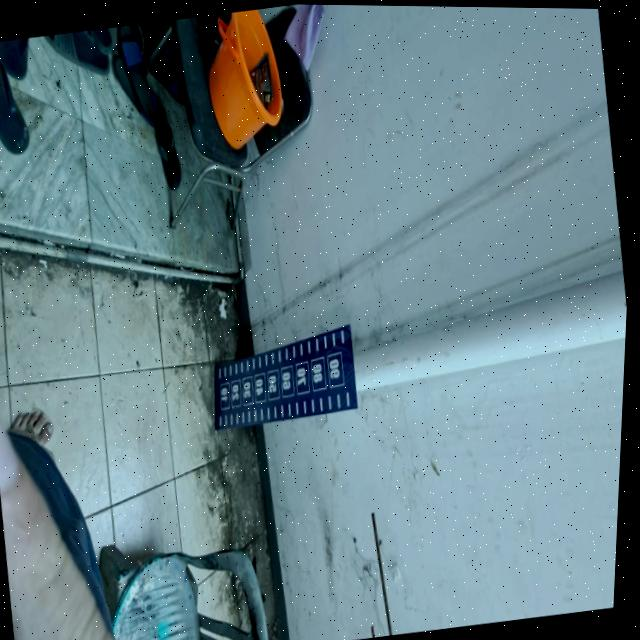water-meter: (186, 303, 373, 456)
